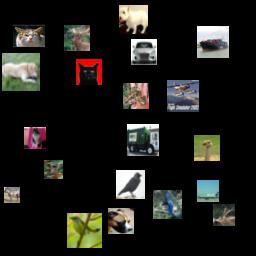airplane: (167, 80, 199, 112), (197, 180, 219, 202)
automobile: (131, 39, 157, 65)
bird: (67, 213, 102, 248), (153, 190, 182, 219), (116, 170, 145, 199), (194, 135, 220, 161)
cat: (13, 20, 45, 52), (76, 59, 102, 85), (24, 127, 46, 149)
deer: (64, 25, 90, 51), (213, 204, 235, 226), (44, 160, 63, 179)
dog: (2, 53, 40, 91), (119, 5, 148, 34), (108, 208, 134, 234)
frog: (123, 83, 149, 109)
ship: (197, 26, 229, 58)
truck: (127, 124, 159, 156)
